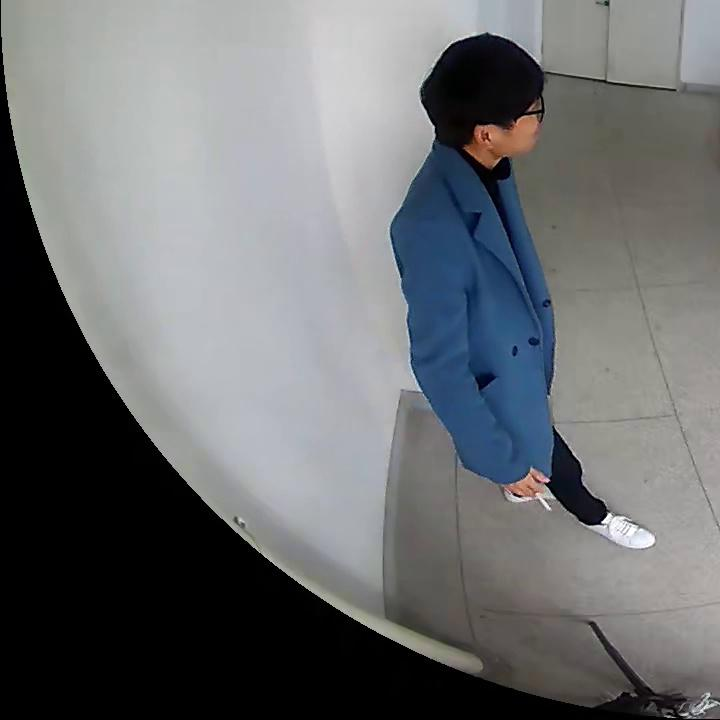handsmoke: (526, 467, 554, 512)
mouthwithoutsmoke: (420, 33, 547, 160)
